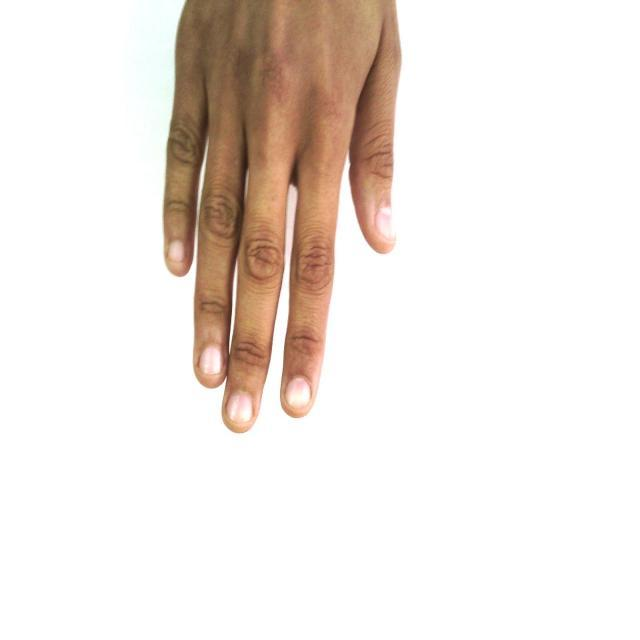Fingernail: (287, 378, 310, 409), (228, 393, 253, 421), (377, 205, 394, 240), (201, 347, 221, 376), (169, 241, 185, 261)
